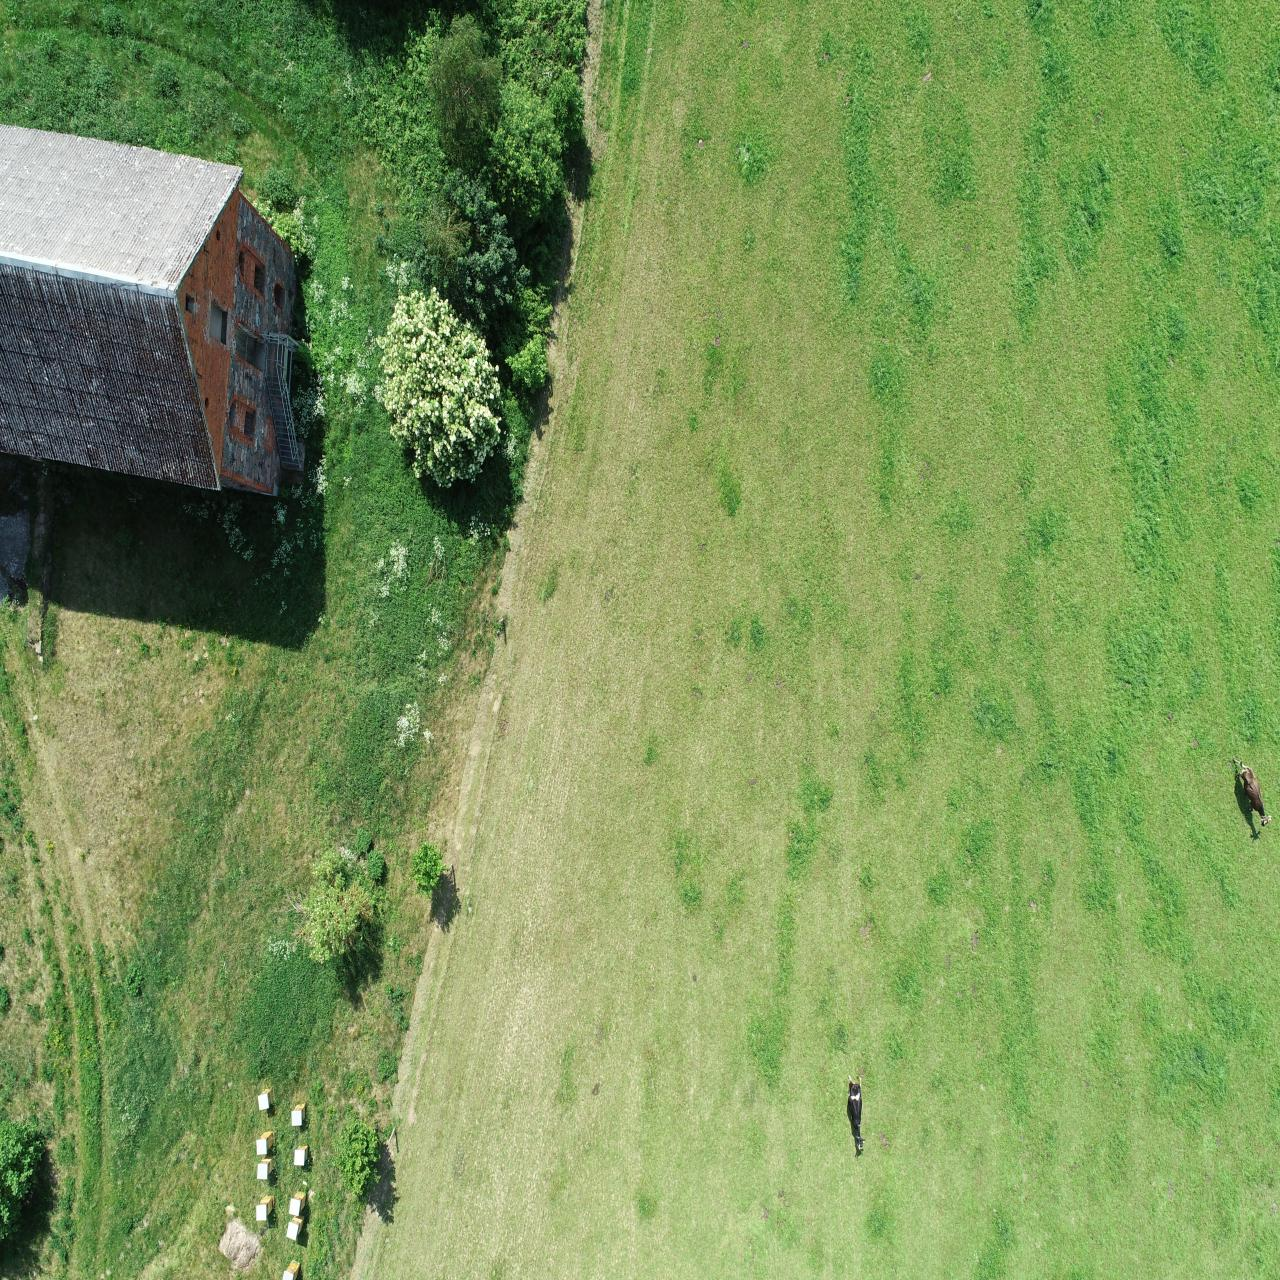cow: (1230, 756, 1274, 830), (846, 1072, 867, 1154)
